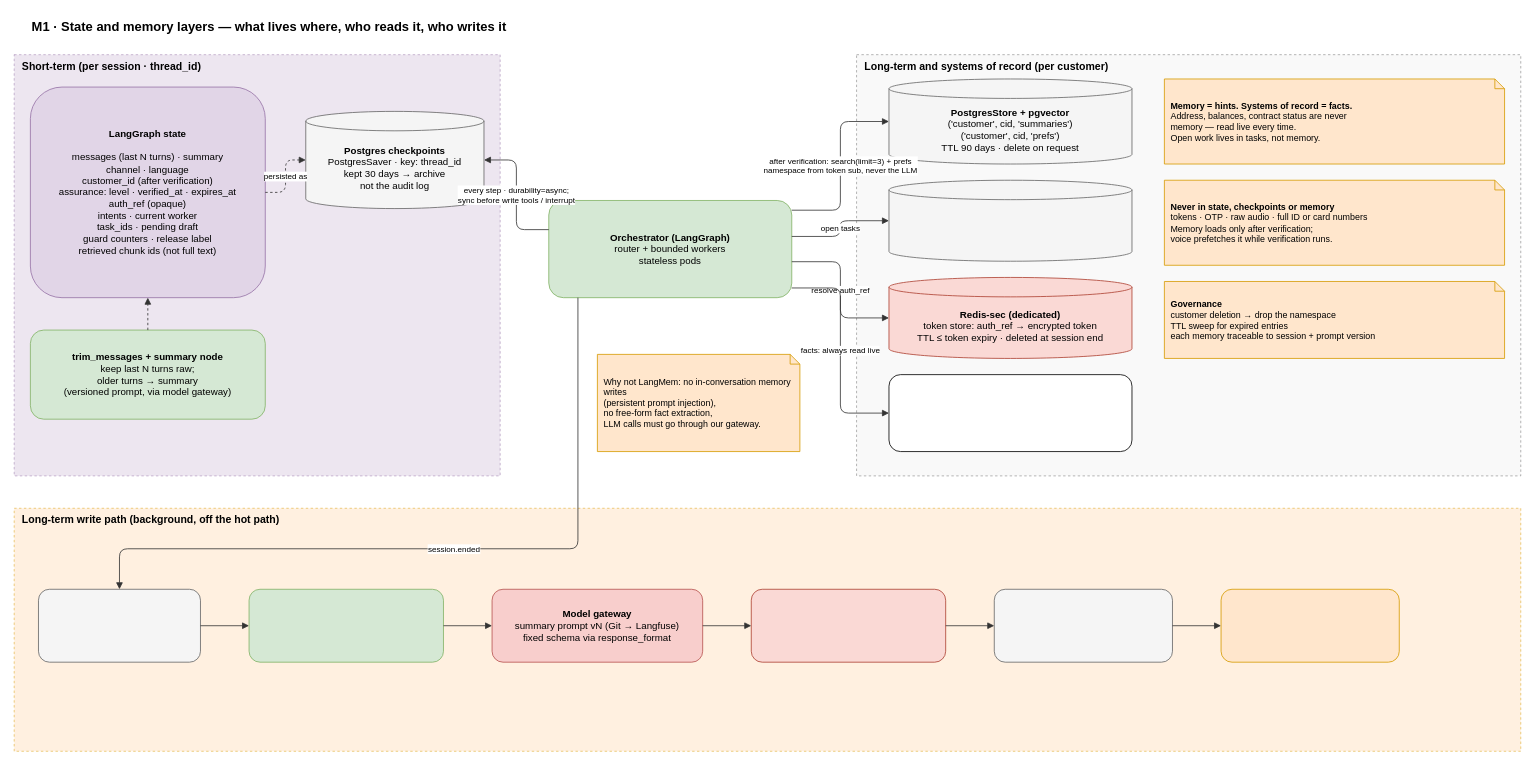
Image size: 1535x765. Some labels were removed from this diagram. The shapes that lost their labels are listed below. From the top down, each one's centre as x and y in pixels, then its label:
At pixel 1010 220: "Postgres tasks open work · approvals · drafts step-up evidence · no tokens".
At pixel 1010 413: "Systems of record accounts · billing · cases via internal API gateway".
At pixel 119 625: "Kafka session.ended".
At pixel 345 625: "MemoryWriter worker reads the interaction record (intent, outcome, task ids)".
At pixel 848 625: "Output guardrail PII redaction · drop identity / authorization claims".
At pixel 1082 625: "Store.put namespace from customer_id TTL 90 days".
At pixel 1309 625: "Audit memory ↔ session ↔ prompt version".
